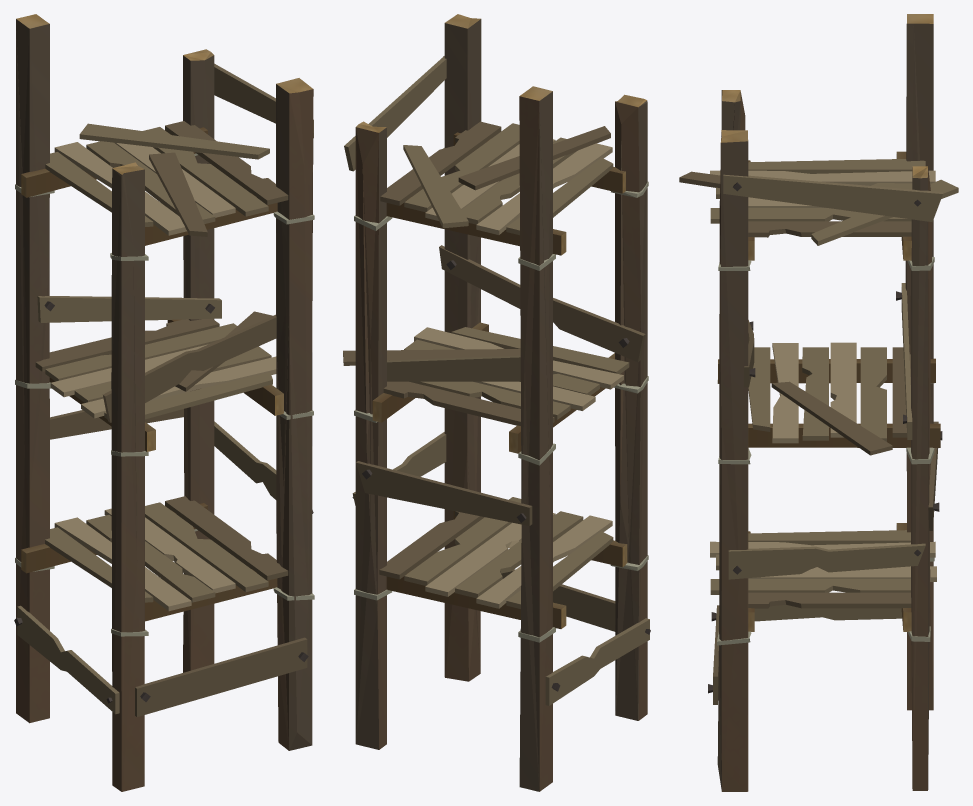
File: Scaffold_2.fbx
3 renders of one model, left to right at view 1: azimuth 30°, elevation 25°; view 2: azimuth 150°, elevation 25°; view 3: azimuth 270°, elevation 25°, orthographic.
Parts seen in each view (by area): view 1: polySurface9789; view 2: polySurface9789; view 3: polySurface9789.
Boxes of the visible parts, left/top/right/bottom form: polySurface9789: left=14, top=14, right=314, bottom=791; polySurface9789: left=343, top=14, right=650, bottom=791; polySurface9789: left=679, top=14, right=958, bottom=791.
Bounding box in the file's own units: 346 × 961 × 354.
